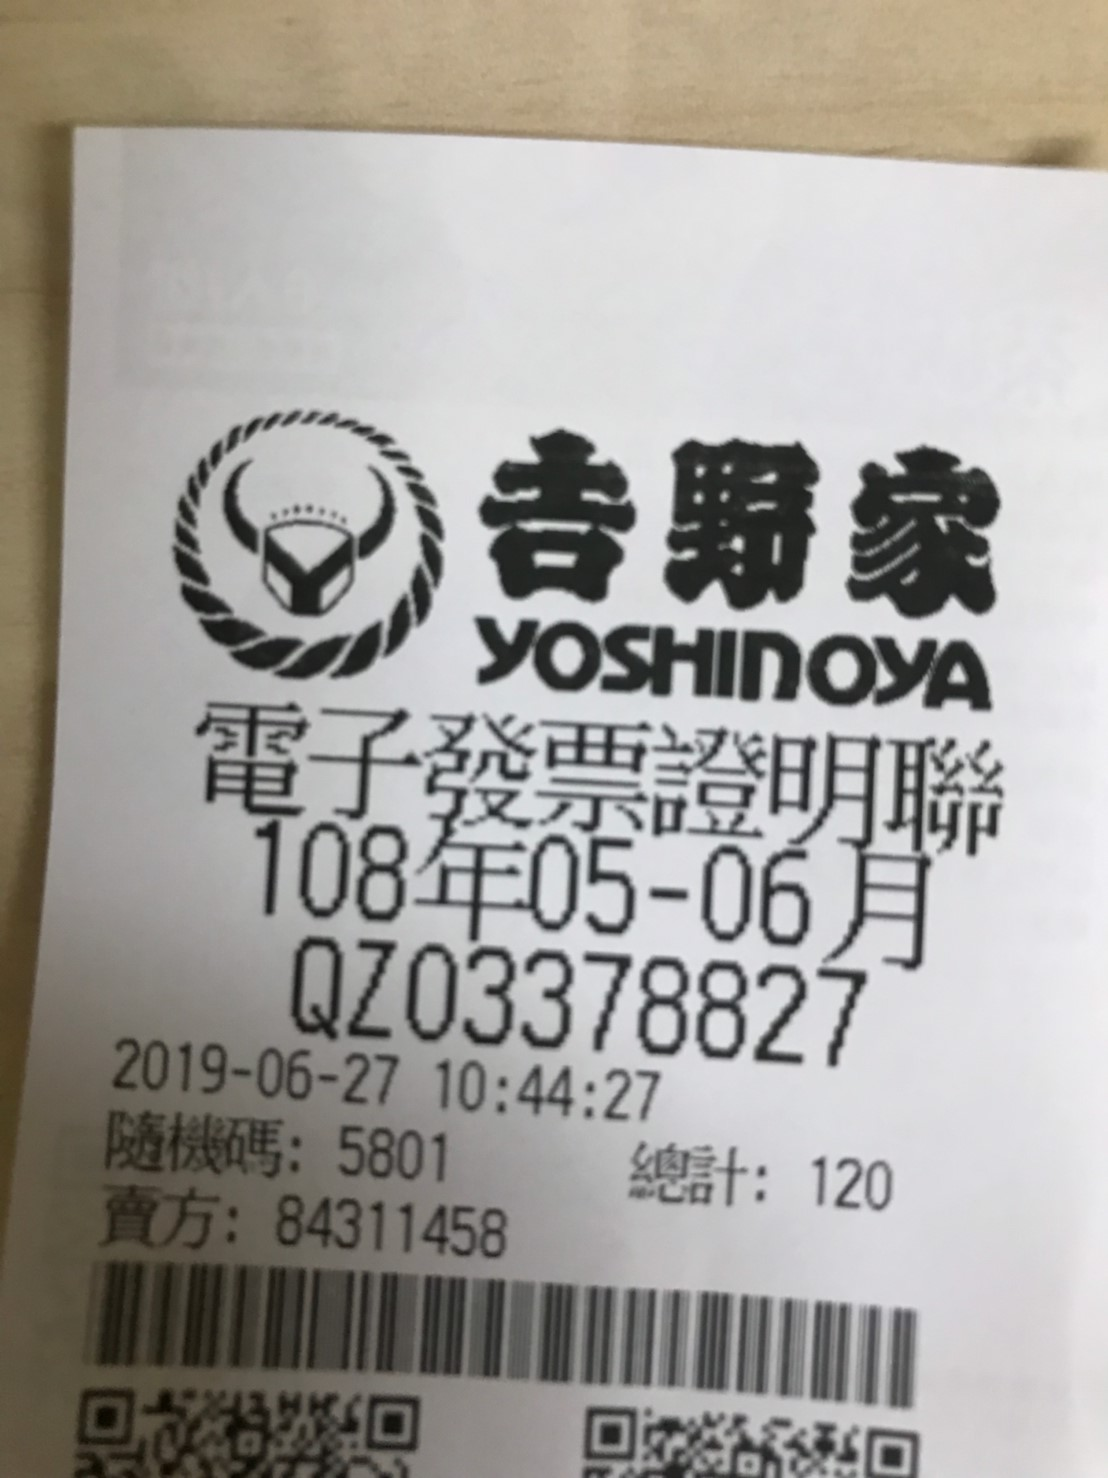Date_New: (253, 812, 933, 974)
Number_New: (405, 940, 869, 1067)
